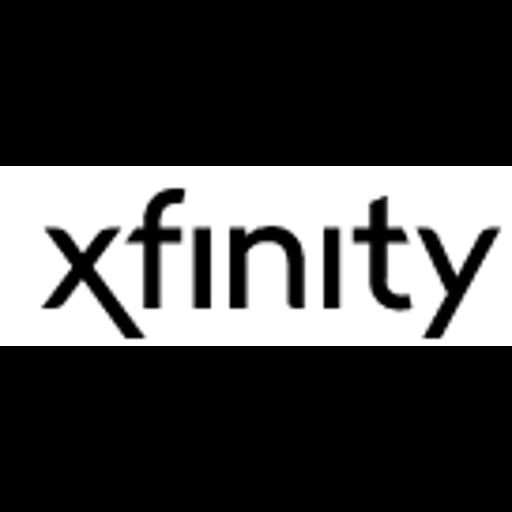Comcast Corporation: (0, 166, 512, 346)
